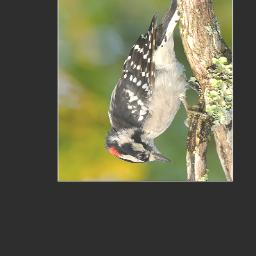Woodpecker: (102, 0, 204, 163)
